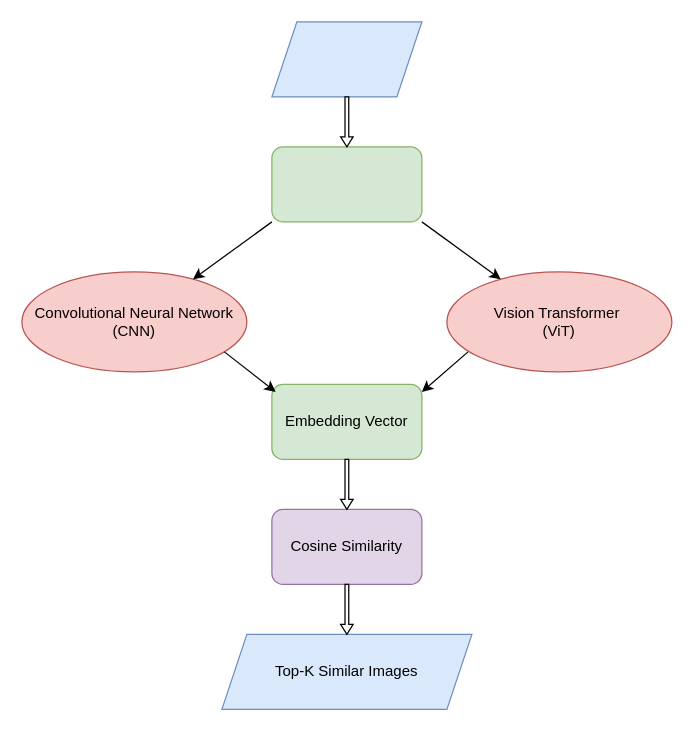
This 694x731 diagram has some shape labels left out. The centre of each missing label's shape, as x and y in pixels:
"Feature Extraction" belongs at (346,184).
"Input" belongs at (346,59).
